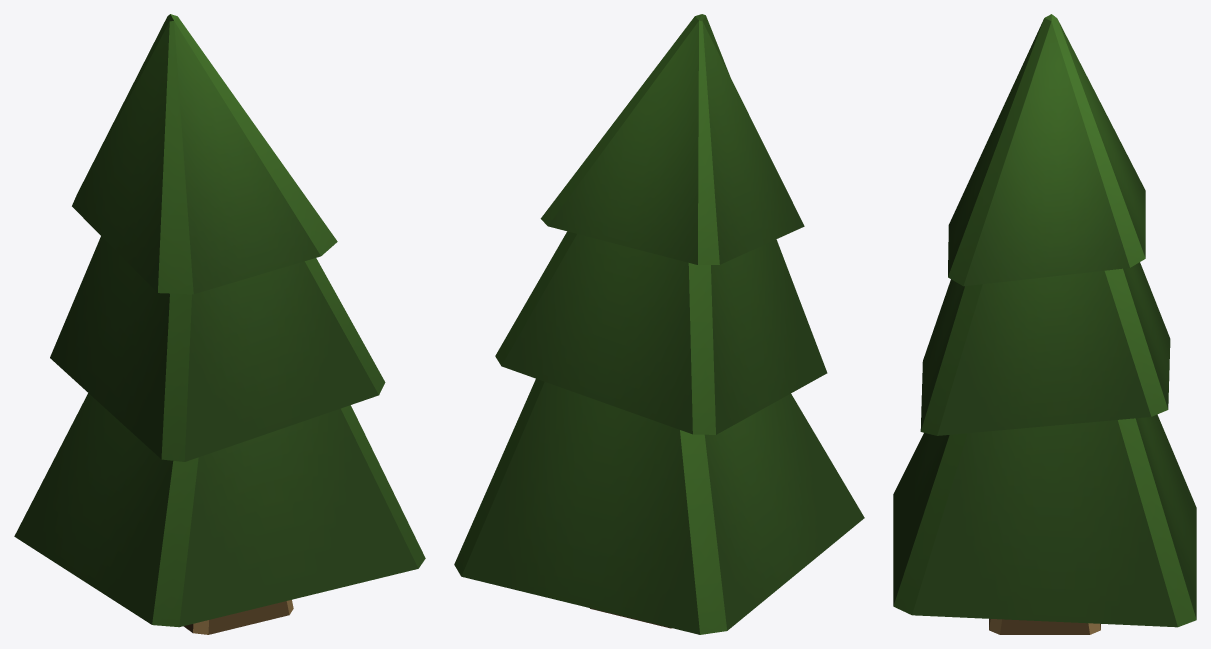
Rendered from Runestrife-Land-Tree2.fbx.
3 renders of one model, left to right at view 1: azimuth 30°, elevation 25°; view 2: azimuth 150°, elevation 25°; view 3: azimuth 270°, elevation 25°, orthographic. The views are drawn at different scales.
Parts seen in each view (by area): view 1: Trunk.001; view 2: Trunk.001; view 3: Trunk.001.
Boxes of the visible parts, x1,y1,x2,y2 form: Trunk.001: [14, 14, 425, 634]; Trunk.001: [454, 14, 864, 634]; Trunk.001: [893, 14, 1196, 634].
Bounding box in the file's own units: 150 × 313 × 149.
